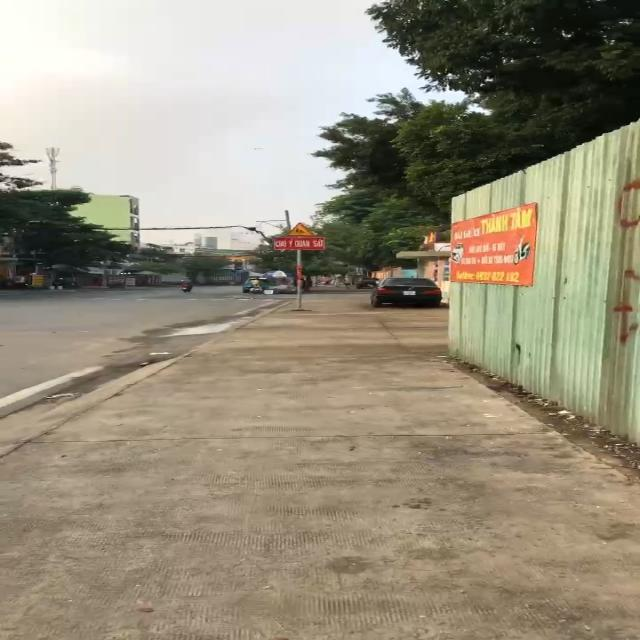Bien bao tre em: (285, 221, 317, 237)
